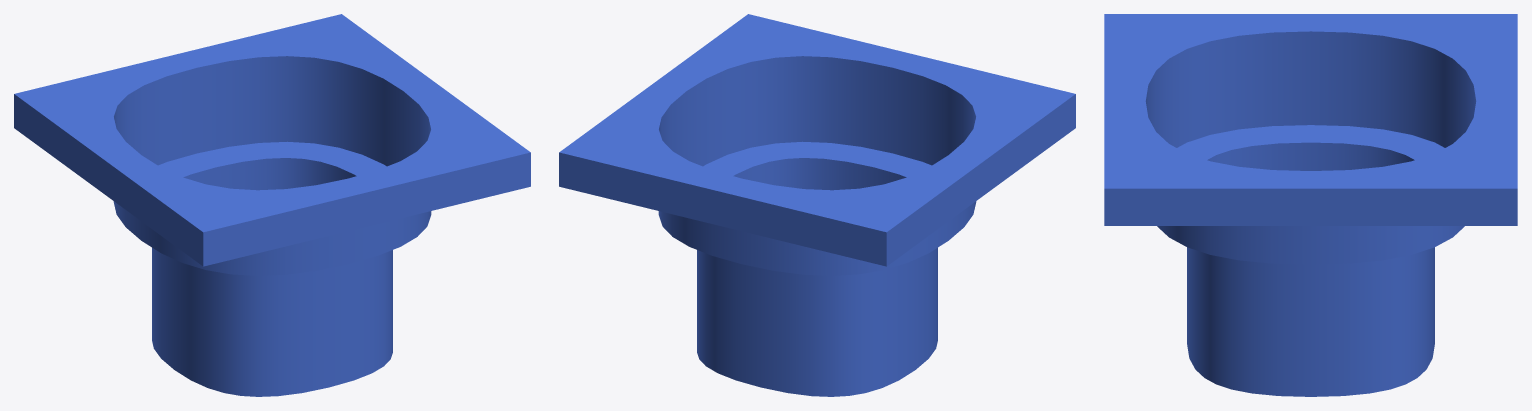
File: Ceiling_1x1m_C.FBX
3 renders of one model, left to right at view 1: azimuth 30°, elevation 25°; view 2: azimuth 150°, elevation 25°; view 3: azimuth 270°, elevation 25°, orthographic. The views are drawn at different scales.
Parts seen in each view (by area): view 1: Ceiling_1x1m_C; view 2: Ceiling_1x1m_C; view 3: Ceiling_1x1m_C.
Boxes of the visible parts, x1,y1,x2,y2 form: Ceiling_1x1m_C: (14, 14, 530, 396); Ceiling_1x1m_C: (559, 14, 1075, 396); Ceiling_1x1m_C: (1104, 14, 1517, 396).
Size of the model in its own units: 100 by 65 by 100.
